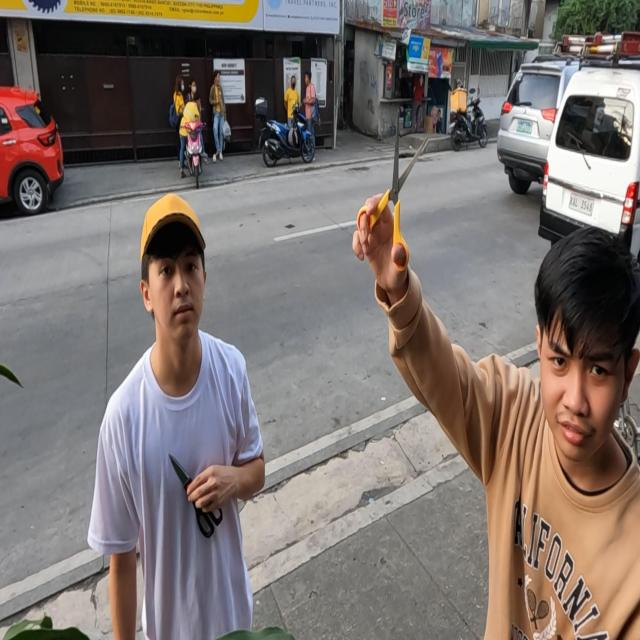scissor: (357, 108, 428, 274), (168, 452, 224, 538)
